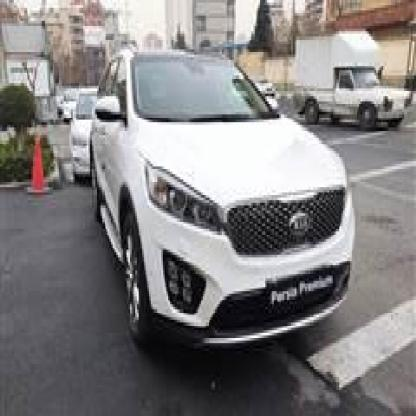Car: (95, 44, 352, 359), (286, 26, 413, 130), (62, 73, 111, 182), (253, 70, 279, 99)
